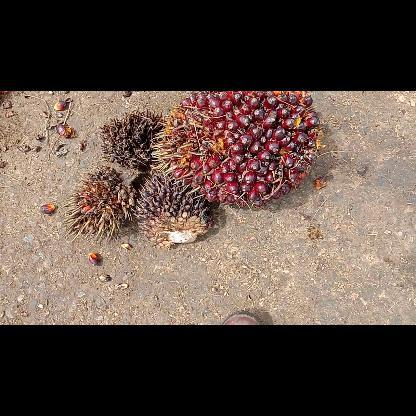TBS abnormal: (132, 174, 214, 247), (60, 164, 136, 242), (98, 108, 167, 172)
TBS masak: (150, 91, 326, 207)
